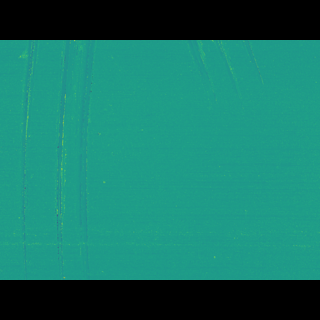Loch: (11, 69, 102, 251), (180, 69, 269, 131)
